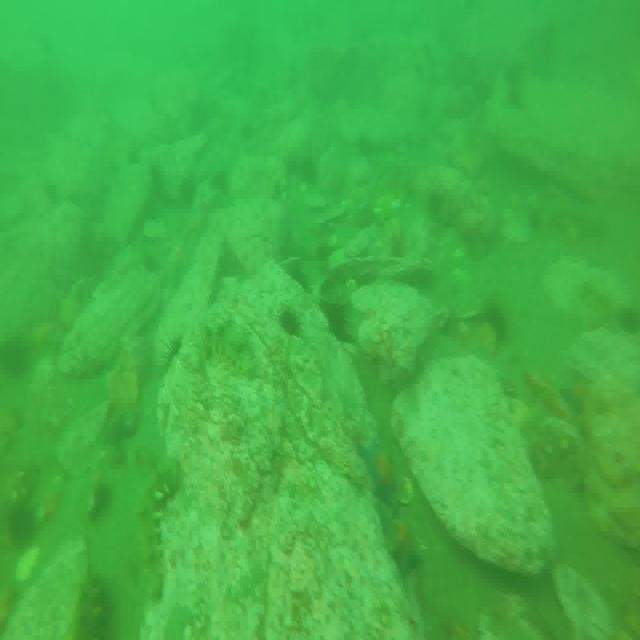echinus: (484, 300, 509, 348), (326, 303, 350, 347), (277, 305, 302, 347), (162, 335, 184, 375), (618, 302, 637, 338), (358, 198, 379, 230), (528, 200, 545, 235), (179, 176, 197, 207)
holothurian: (136, 456, 180, 597), (195, 321, 257, 371)
starfish: (358, 435, 402, 513), (381, 508, 420, 574), (559, 368, 592, 421)
